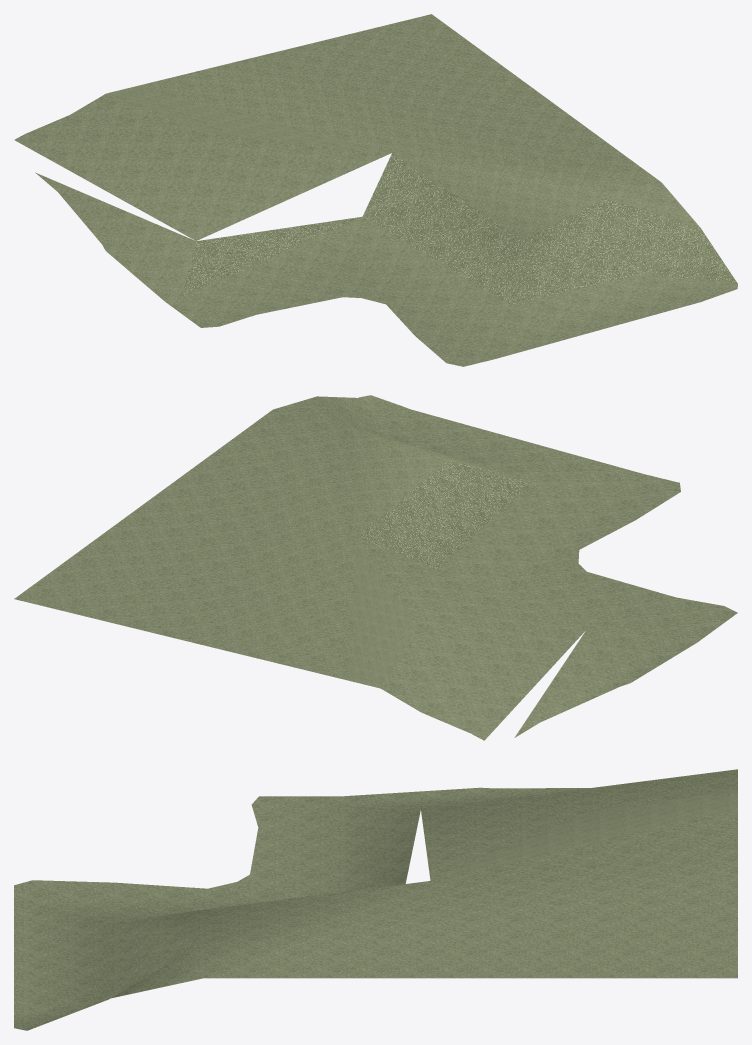
The model's file is kd_stage_135b75_4_140_bounded_piece_0.glb.
The picture shows the model from 3 angles, top to bottom: view 1: azimuth 30°, elevation 25°; view 2: azimuth 150°, elevation 25°; view 3: azimuth 270°, elevation 25°; orthographic projection. The views are drawn at different scales.
Visible parts, largest first — view 1: kd_stage_135b75_4_140_bounded_piece_0; view 2: kd_stage_135b75_4_140_bounded_piece_0; view 3: kd_stage_135b75_4_140_bounded_piece_0.
Boxes of the visible parts, box(x1,y1,x2,y2) form: kd_stage_135b75_4_140_bounded_piece_0: box(14, 14, 737, 366); kd_stage_135b75_4_140_bounded_piece_0: box(14, 395, 737, 740); kd_stage_135b75_4_140_bounded_piece_0: box(14, 769, 737, 1030).
Bounding box in the file's own units: 3.79 × 0.4681 × 4.68.
1 material, 1 textured.
